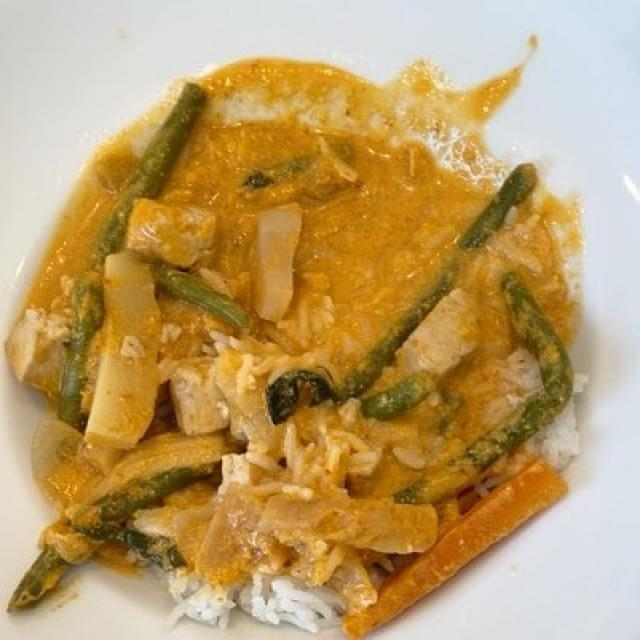curry-vegetarian: (7, 97, 575, 628)
rice: (170, 347, 586, 639)
